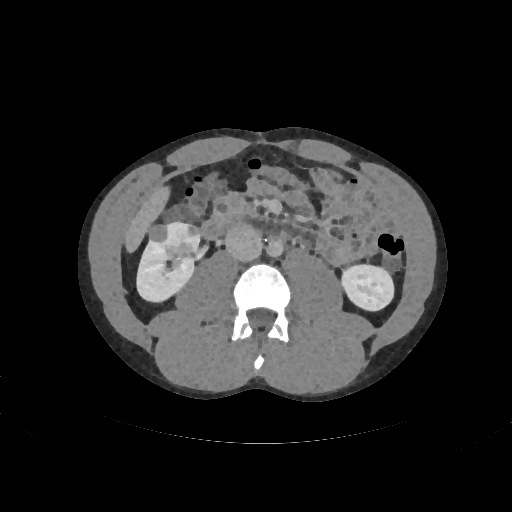Lesion: (146, 221, 170, 244)
